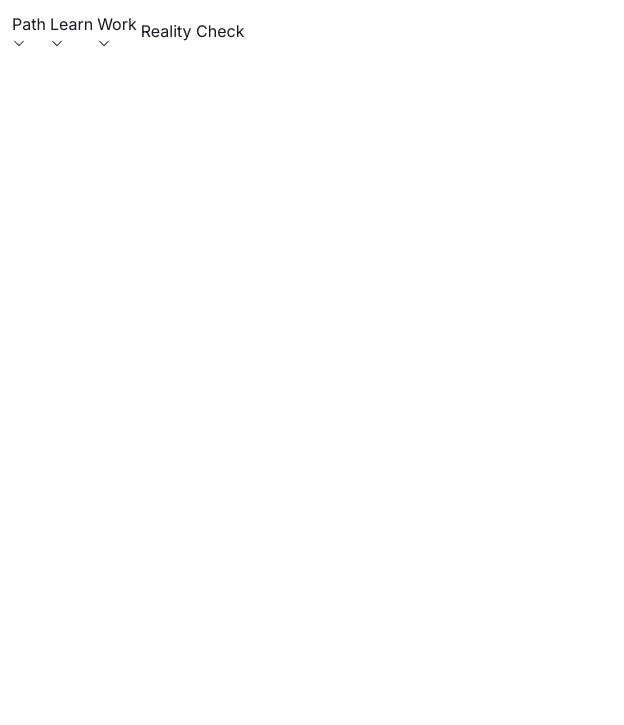
NavDesktop › keeps only one panel open at a time
Step 1. Click the button "Path" → (29, 31), box [12, 12, 46, 50]
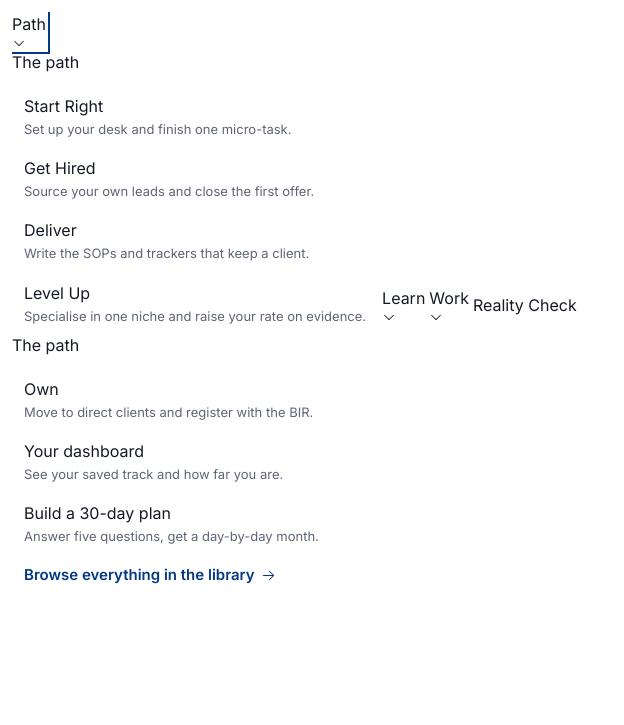
Step 2. Click the button "Work" → (449, 305), box [429, 286, 469, 324]
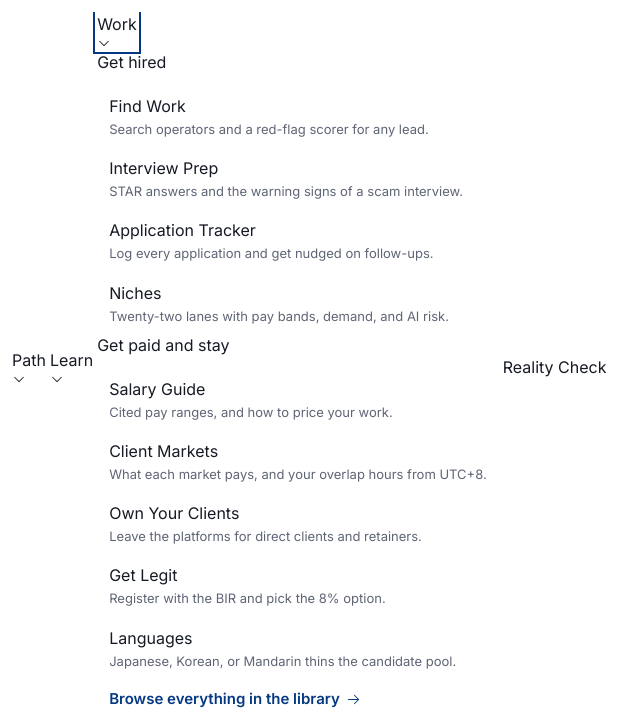
Now the button "Path" is collapsed, box [12, 348, 46, 386]
Now the button "Work" is expanded, box [97, 12, 137, 50]
